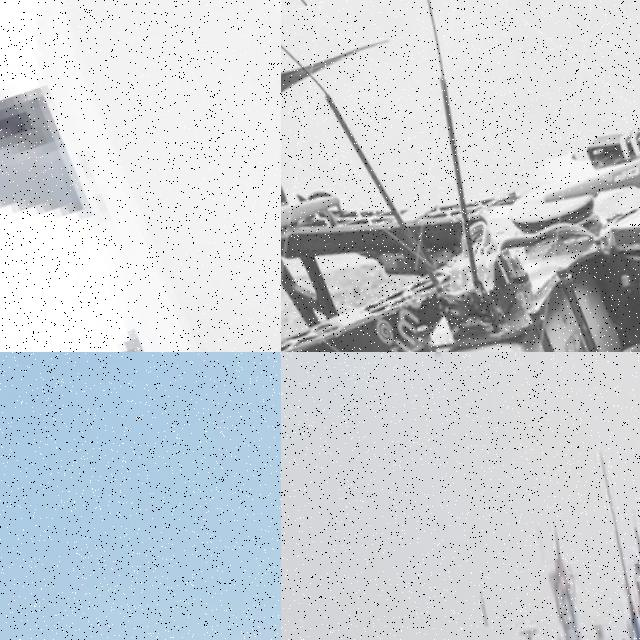drone: (281, 0, 640, 352), (0, 0, 281, 352)
